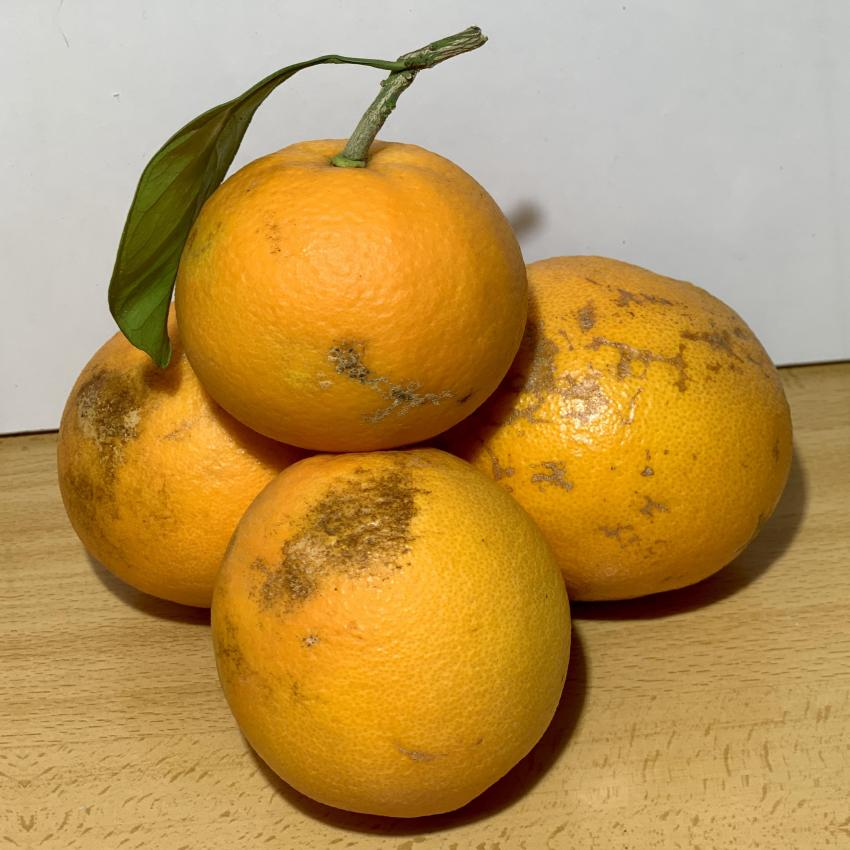Mal estado: (203, 433, 595, 836), (453, 232, 803, 626), (154, 124, 524, 458), (41, 274, 297, 638)
